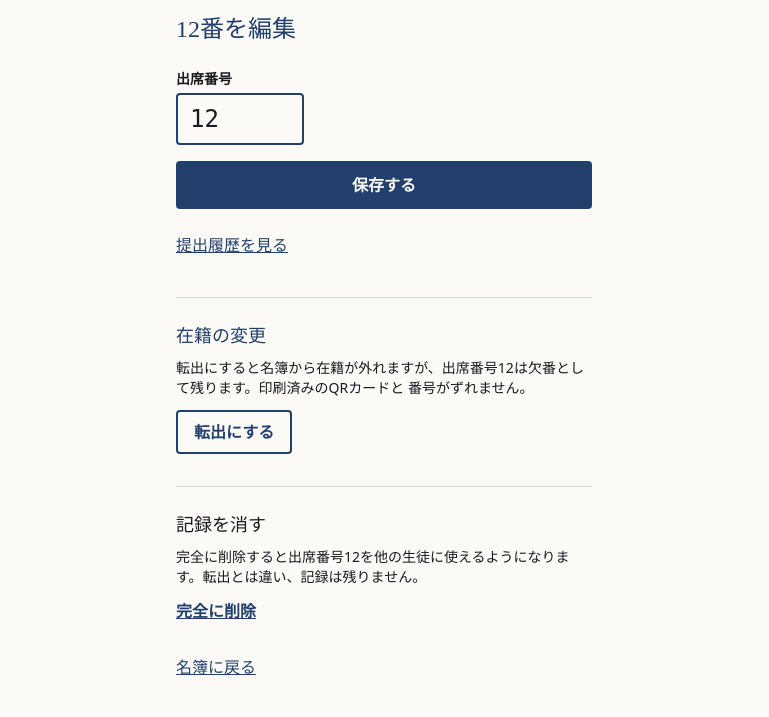
Test: 保存 › 出席番号を変えられる
The image size is (769, 717).
Replace the text in the number field labelled "出席番号" with "7" at {"x": 240, "y": 119}, box [176, 93, 304, 145]
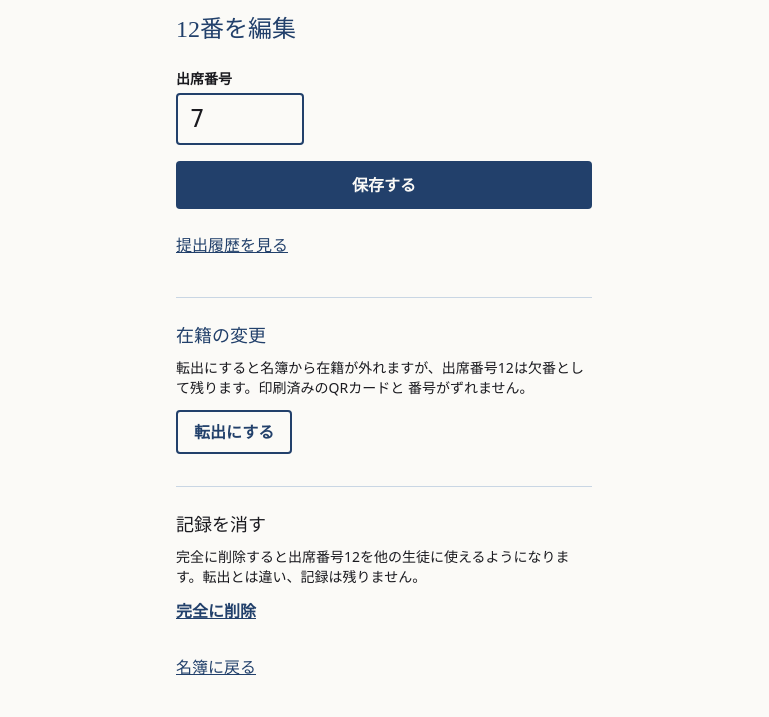
Click the button "保存する".
click(384, 185)  # box [176, 161, 592, 209]
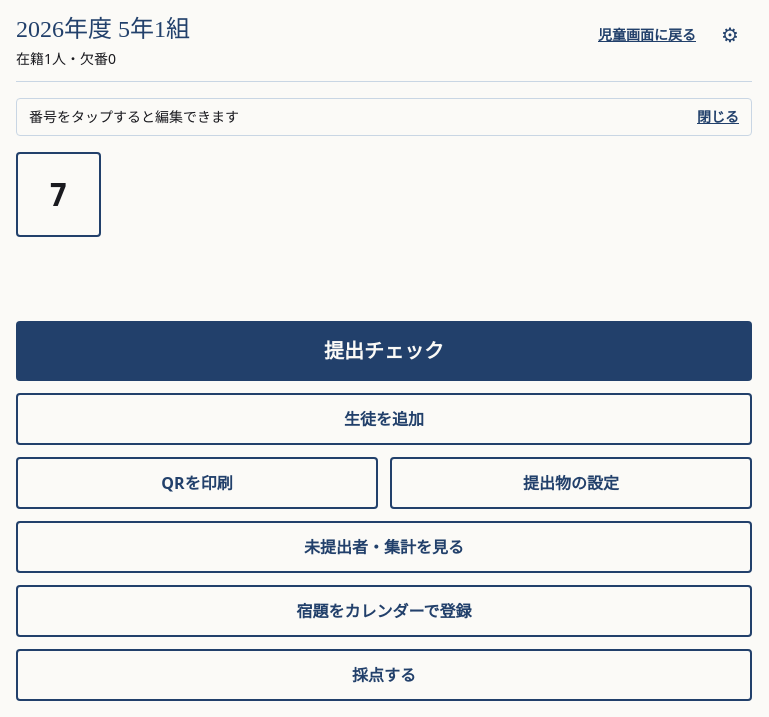
Check: the text "在籍1人・欠番0" is shown, box [16, 49, 116, 68]
